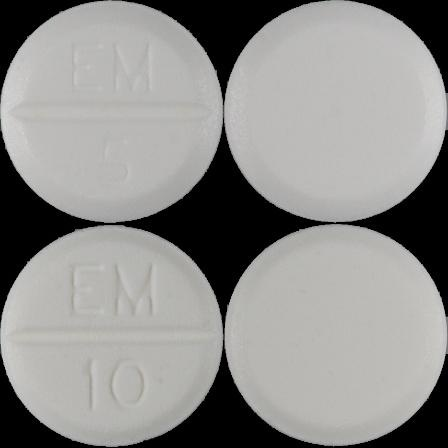42254-008: (0, 0, 224, 224)
